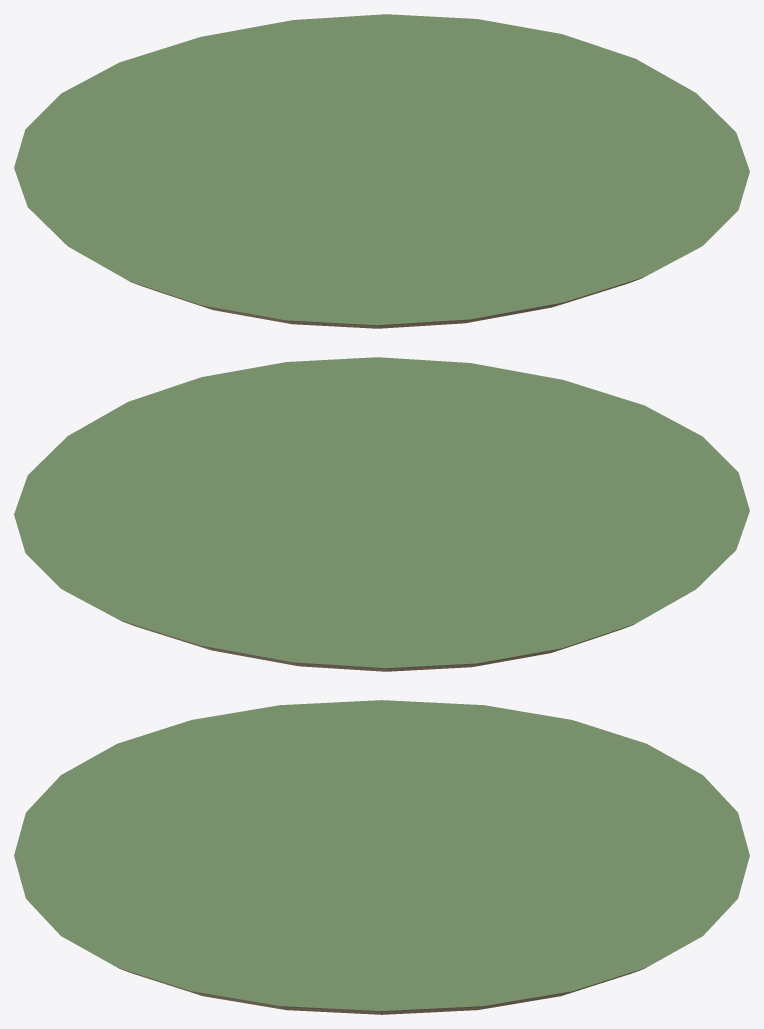
Rendered from Island_Pad_03.fbx.
The picture shows the model from 3 angles, top to bottom: view 1: azimuth 30°, elevation 25°; view 2: azimuth 150°, elevation 25°; view 3: azimuth 270°, elevation 25°; orthographic projection.
Visible parts, largest first — view 1: Island_Pad_03; view 2: Island_Pad_03; view 3: Island_Pad_03.
Boxes of the visible parts, left/top/right/bottom form: Island_Pad_03: left=14, top=14, right=749, bottom=328; Island_Pad_03: left=14, top=357, right=749, bottom=671; Island_Pad_03: left=14, top=700, right=749, bottom=1014.
Size of what is drawn, in the model's own units: 9200 by 9200 by 180.
